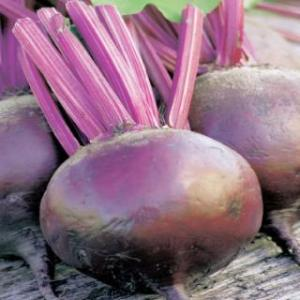beet: (45, 130, 252, 284), (192, 64, 300, 168), (2, 92, 60, 234)
